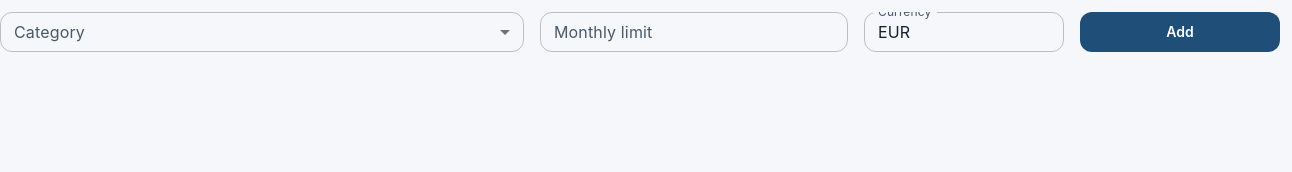
BudgetForm › shows validation errors and does not submit invalid input
The width and height of the screenshot is (1292, 172).
Type "12.345" into the field labelled "Monthly limit". click: {"x": 694, "y": 32}
box: [540,12,848,52]
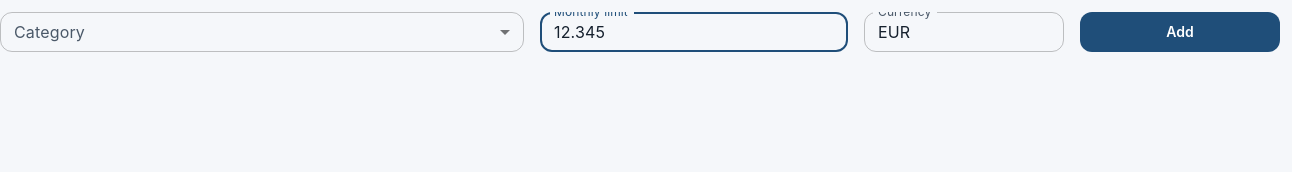
Click the button "Add". click: {"x": 1180, "y": 32}
box: [1080,12,1280,52]
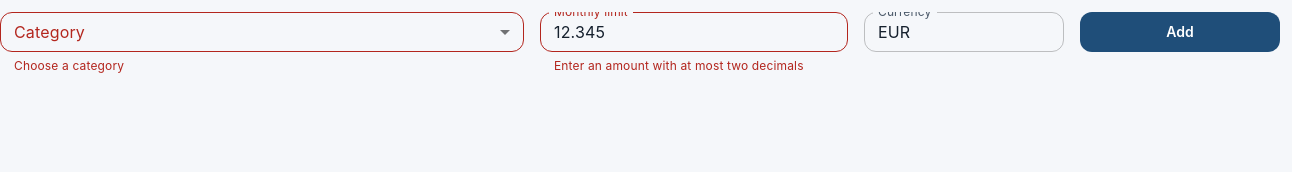
Expected: the text "Choose a category" is shown, [14,58,124,73]
Expected: the text "Enter an amount with at most two decimals" is shown, [554,56,834,76]
